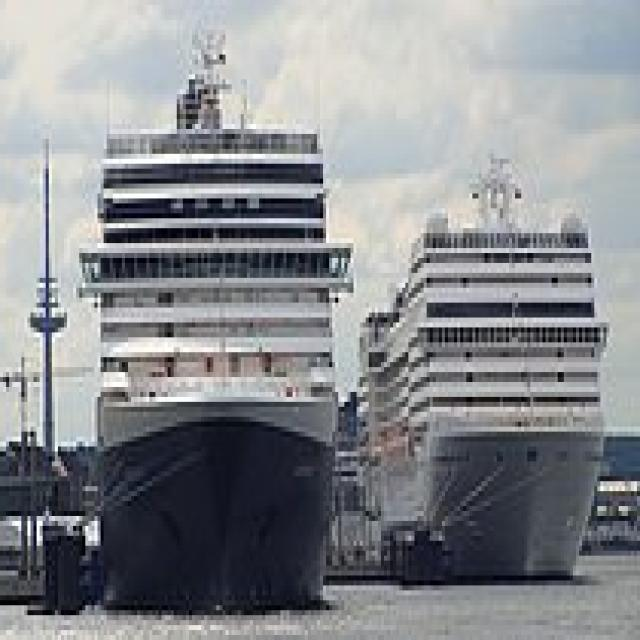Cruise: (79, 20, 363, 605), (362, 139, 616, 580)
